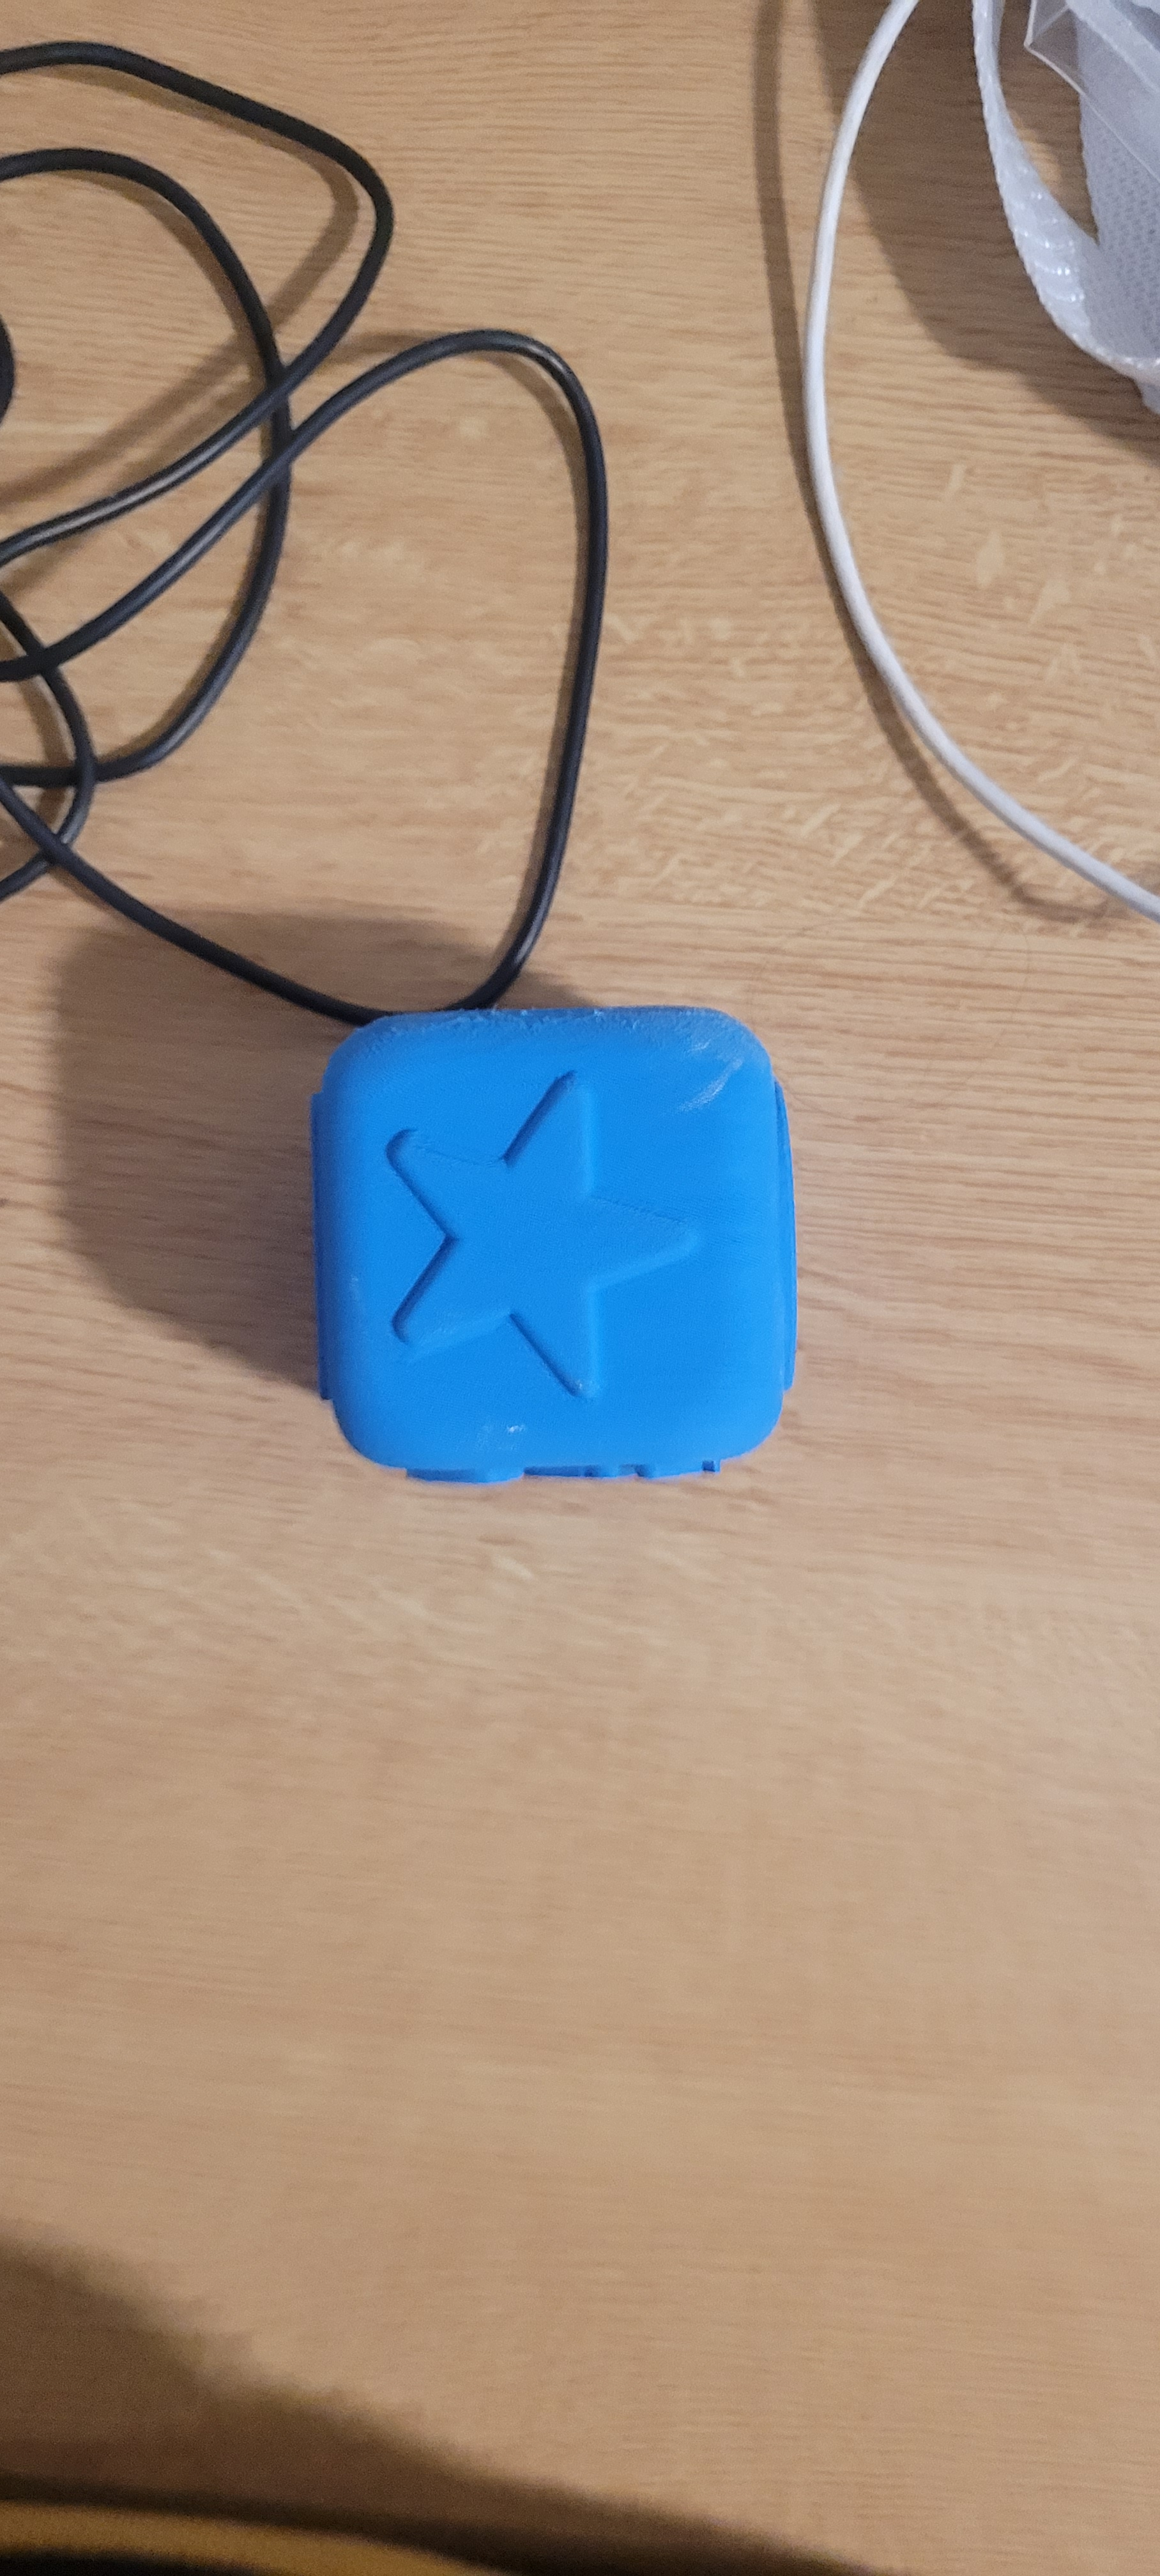Star: (340, 1066, 721, 1406)
